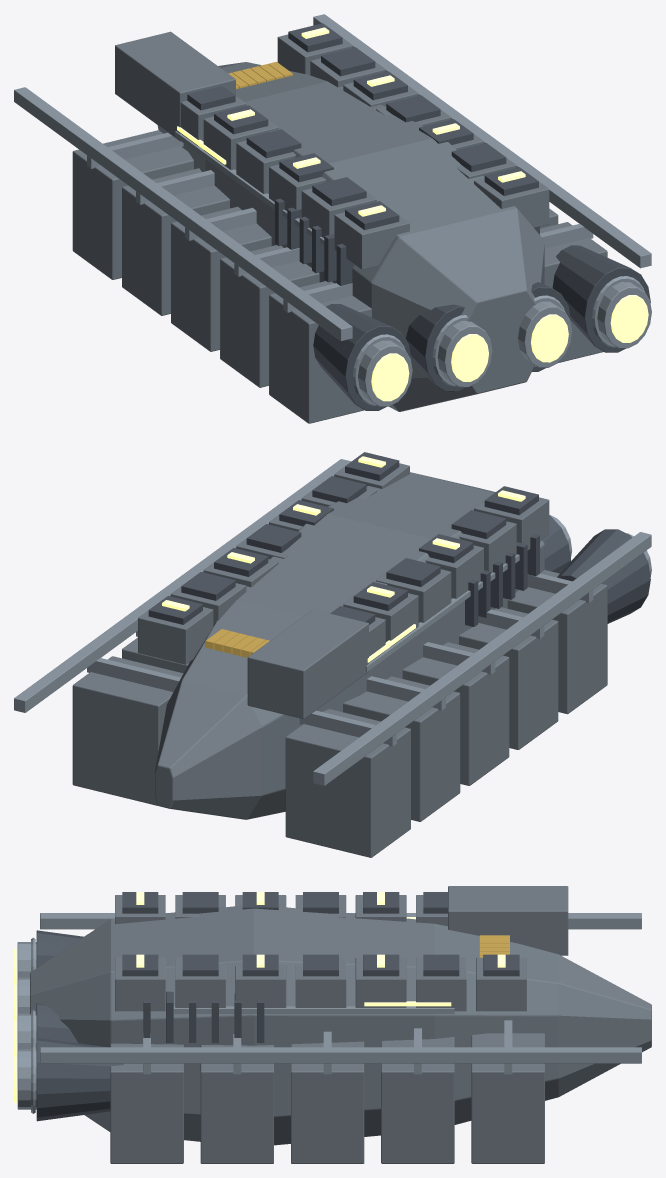
The model's file is transport_caravan.glb.
3 views of the same model, one above another, from view 1: azimuth 30°, elevation 25°; view 2: azimuth 150°, elevation 25°; view 3: azimuth 270°, elevation 25° (orthographic). The views are drawn at different scales.
Parts seen in each view (by area): view 1: roaming_hull.001, roaming_trim.001, roaming_dark.001, roaming_glow.001, roaming_glass.001; view 2: roaming_hull.001, roaming_trim.001, roaming_dark.001, roaming_glow.001, roaming_glass.001; view 3: roaming_hull.001, roaming_trim.001, roaming_dark.001, roaming_glow.001, roaming_glass.001.
Boxes of the visible parts, box(x1,y1,x2,y2) form: roaming_hull.001: box(72, 31, 607, 423); roaming_trim.001: box(14, 14, 651, 406); roaming_dark.001: box(187, 23, 650, 410); roaming_glow.001: box(177, 27, 648, 401); roaming_glass.001: box(228, 61, 292, 89); roaming_hull.001: box(72, 463, 607, 857); roaming_trim.001: box(14, 459, 651, 785); roaming_dark.001: box(148, 452, 650, 626); roaming_glow.001: box(162, 456, 525, 662); roaming_glass.001: box(205, 629, 269, 657); roaming_hull.001: box(30, 886, 651, 1163); roaming_trim.001: box(17, 913, 641, 1113); roaming_dark.001: box(36, 892, 519, 1121); roaming_glow.001: box(14, 892, 505, 1102); roaming_glass.001: box(479, 935, 509, 957).
Size of the model in its own units: 75 by 48 by 145.
